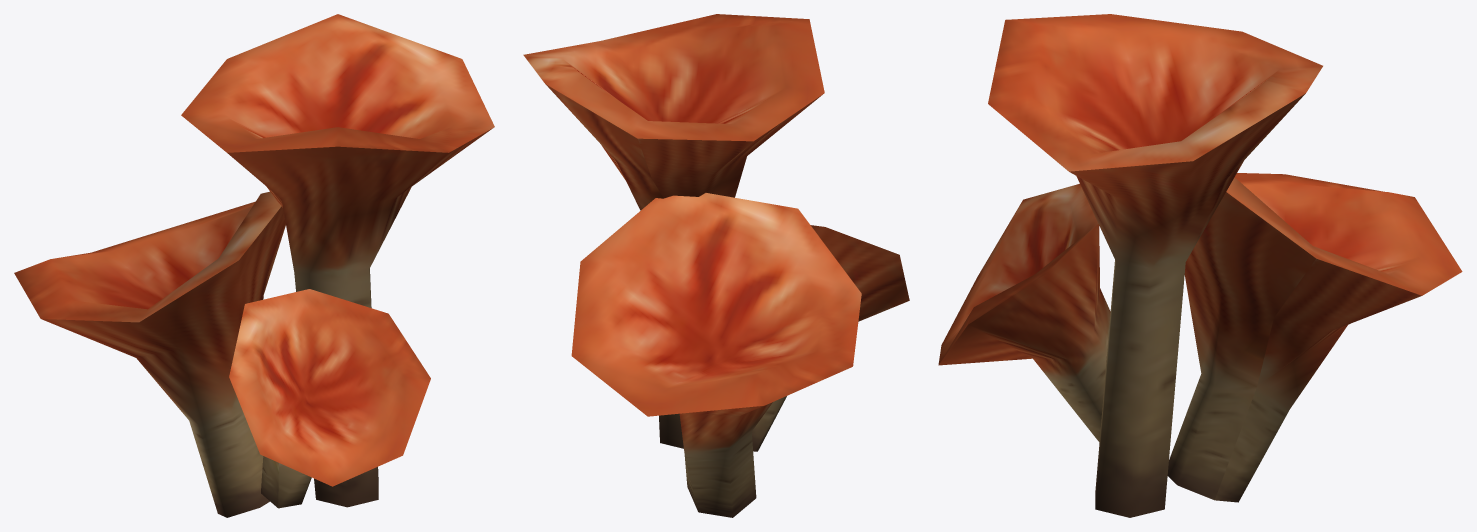
File: Mushroom2A.fbx
3 renders of one model, left to right at view 1: azimuth 30°, elevation 25°; view 2: azimuth 150°, elevation 25°; view 3: azimuth 270°, elevation 25°, orthographic. The views are drawn at different scales.
Parts seen in each view (by area): view 1: mushroom3; view 2: mushroom3; view 3: mushroom3.
Boxes of the visible parts, x1=… form: mushroom3: x1=14, y1=14, x2=494, y2=517; mushroom3: x1=523, y1=14, x2=909, y2=517; mushroom3: x1=938, y1=14, x2=1462, y2=517.
Bounding box in the file's own units: 0.739 × 0.8114 × 0.7971.
Materials: 1 (1 with a texture image).
